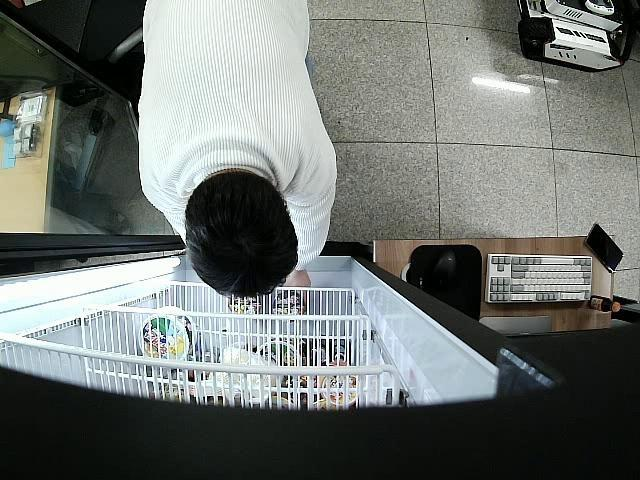08_buldak_S: (272, 292, 306, 316)
